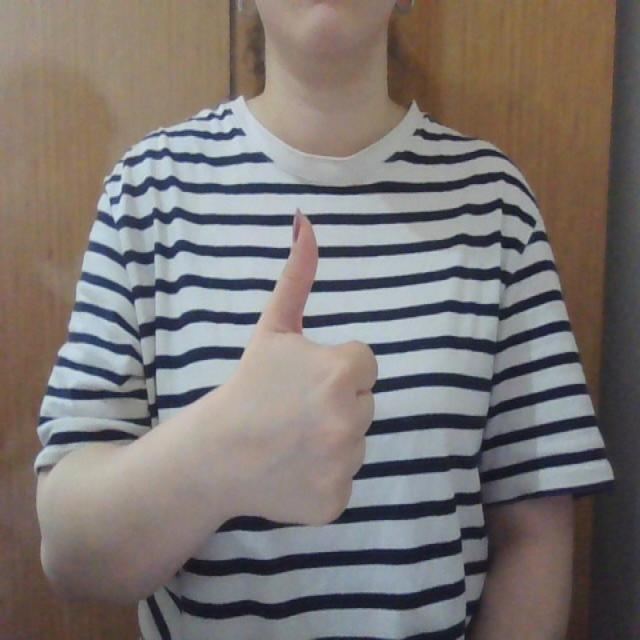Tamam: (205, 209, 381, 545)
